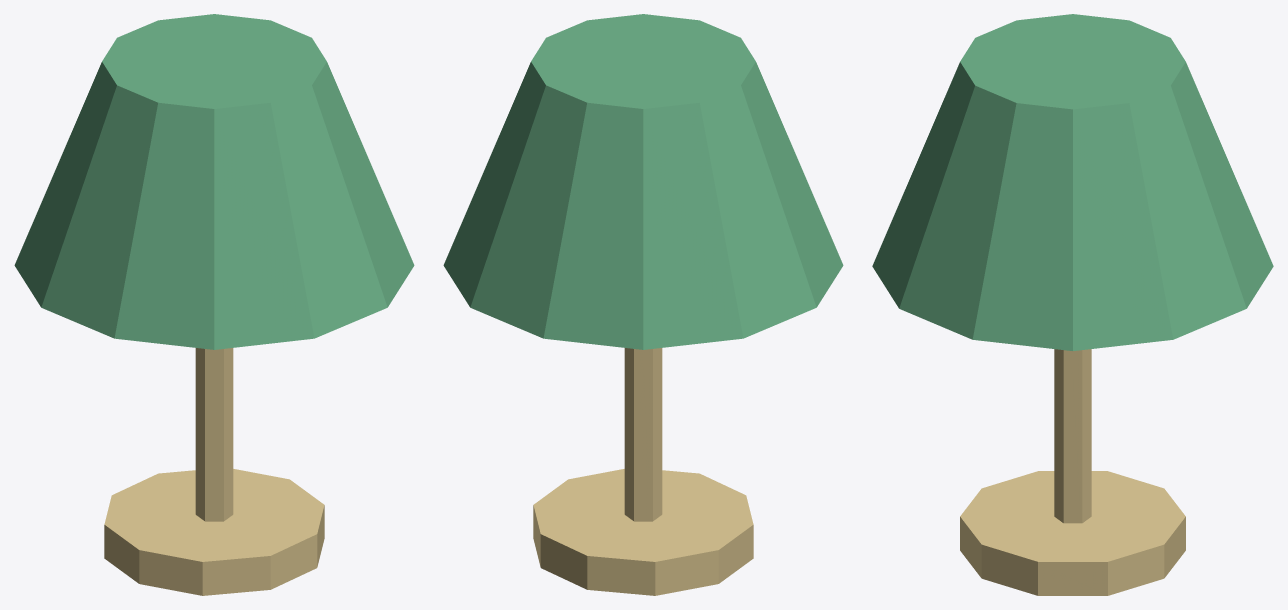
The model's file is table_lamp.glb.
3 renders of one model, left to right at view 1: azimuth 30°, elevation 25°; view 2: azimuth 150°, elevation 25°; view 3: azimuth 270°, elevation 25°, orthographic.
Visible parts, largest first — view 1: table_lamp; view 2: table_lamp; view 3: table_lamp.
Part boxes in pixels (x1,y1,x2,y2): table_lamp: (14,14,414,595); table_lamp: (443,14,843,595); table_lamp: (872,14,1273,595).
Size of the model in its own units: 0.32 by 0.43 by 0.32.
